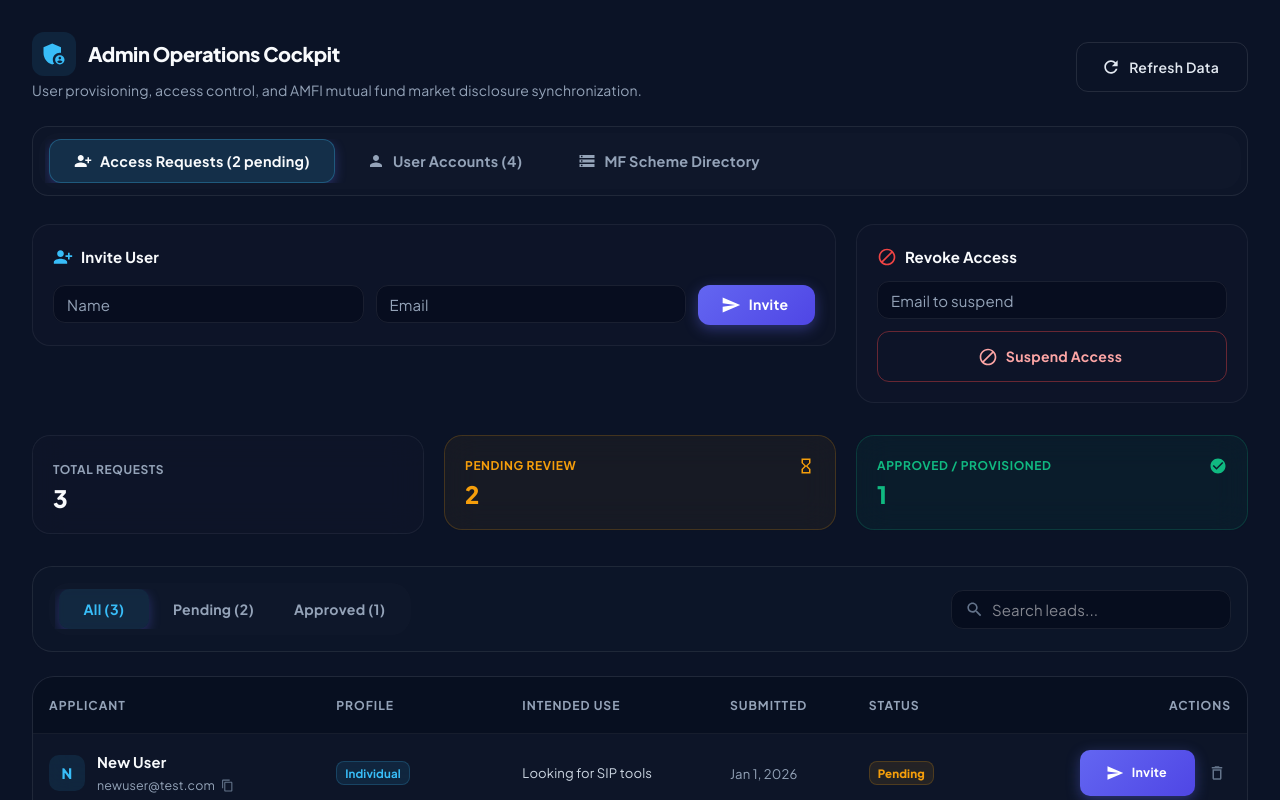
Test case: AdminConsole › rejects a pending request after confirm
This screenshot has width=1280, height=800.
Expected: the text "newuser@test.com" is shown, [97,776,215,796]
Click the button with test id "DeleteOutlineIcon" at point(1217, 773), box [1203,759,1231,787]
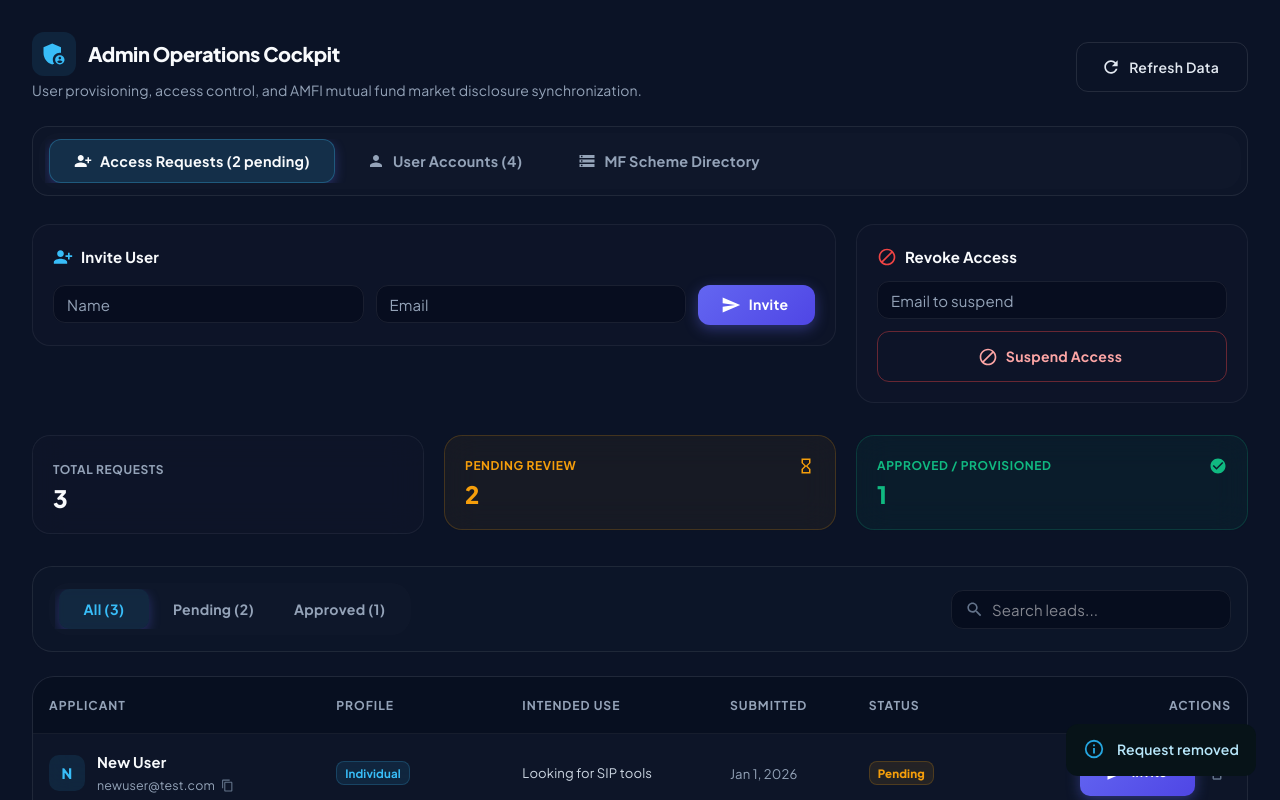
Now the text "Request removed" is shown, box [1117,740,1239,758]
